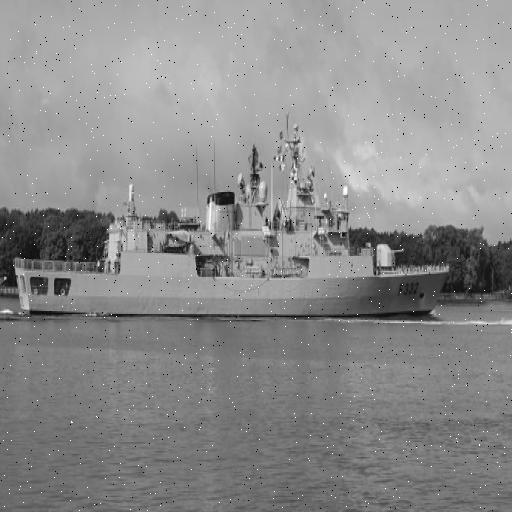Fragata: (13, 111, 452, 323)
